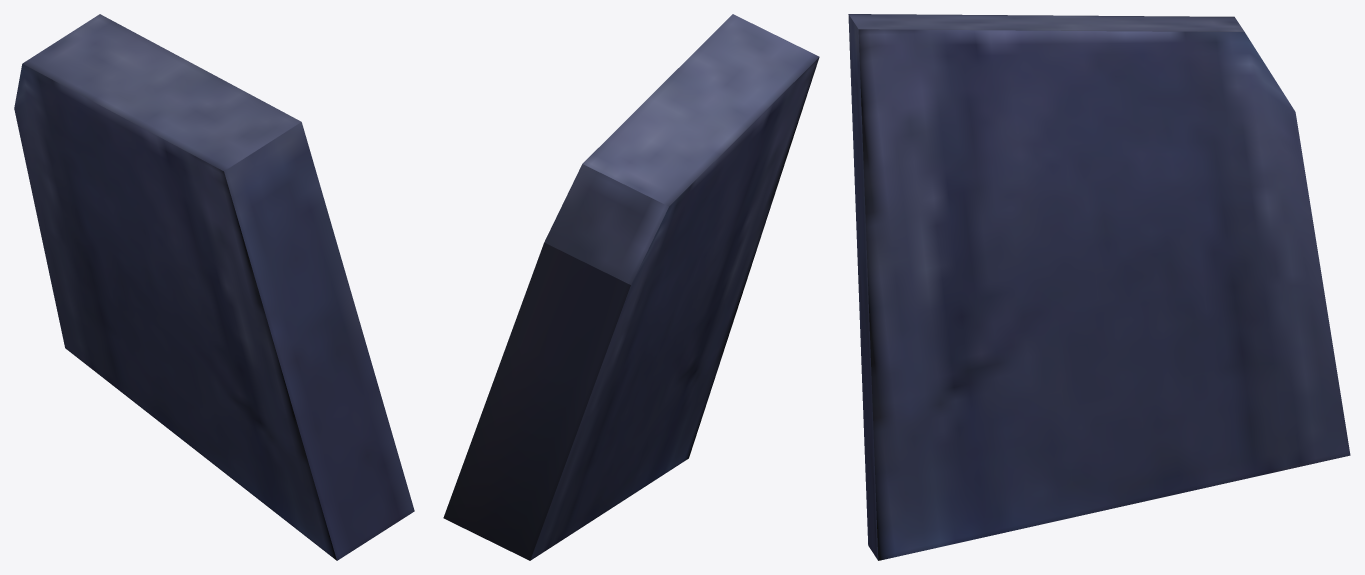
The model's file is Area06_18.fbx.
The picture shows the model from 3 angles, left to right: view 1: azimuth 30°, elevation 25°; view 2: azimuth 150°, elevation 25°; view 3: azimuth 270°, elevation 25°; orthographic projection. The views are drawn at different scales.
Visible parts, largest first — view 1: Area06_18; view 2: Area06_18; view 3: Area06_18.
Boxes of the visible parts, box(x1,y1,x2,y2) form: Area06_18: box(14, 14, 414, 560); Area06_18: box(443, 14, 819, 560); Area06_18: box(848, 14, 1350, 560).
Bounding box in the file's own units: 95.97 × 180 × 166.
